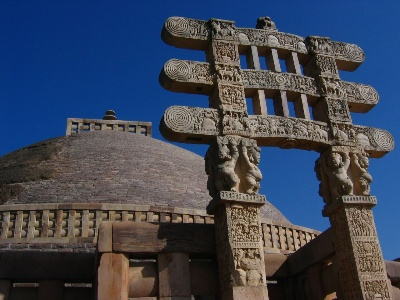torana: (147, 6, 395, 262)
